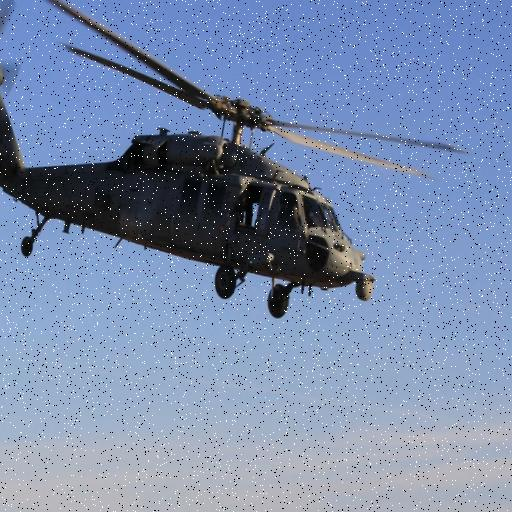helicopter: (1, 1, 472, 316)
